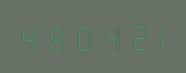eight: (42, 20, 66, 53)
four: (17, 21, 41, 53), (93, 20, 117, 52)
one: (143, 19, 167, 51)
two: (118, 19, 142, 52)
zero: (68, 20, 92, 53)
